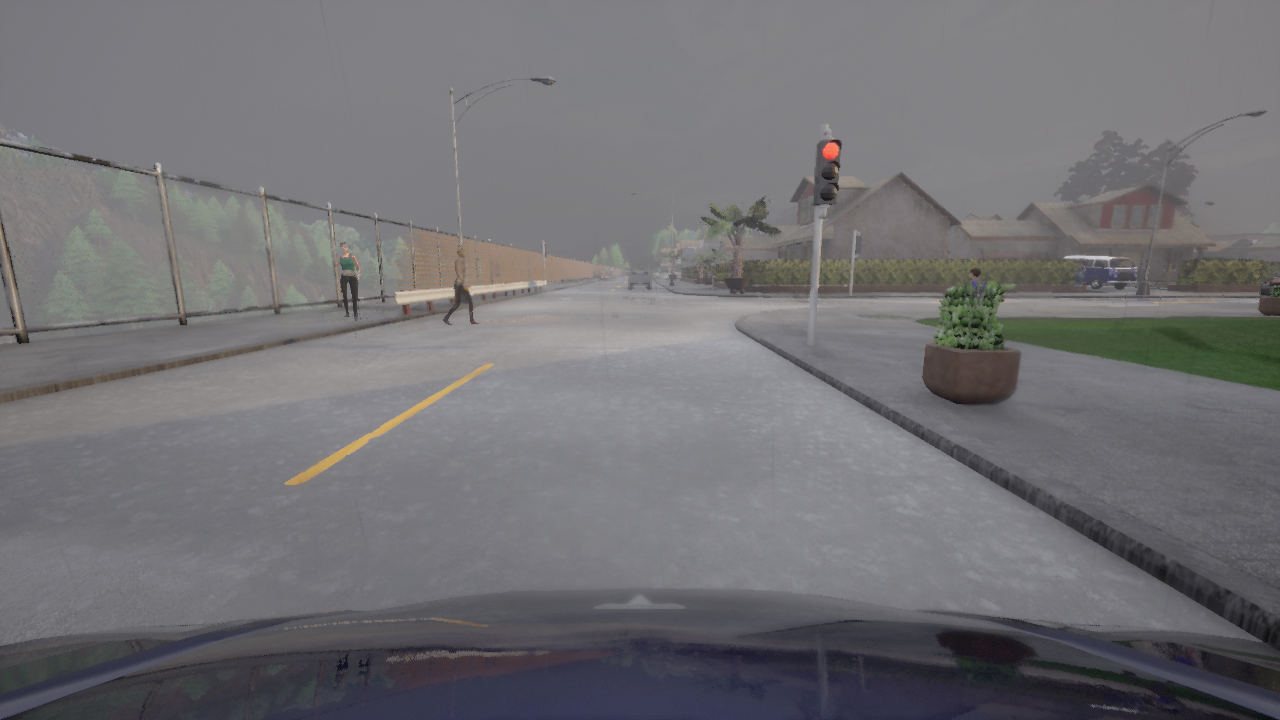cyclist: (0, 588, 1279, 719), (1062, 255, 1137, 288), (628, 269, 651, 288), (1260, 277, 1279, 296)
pedestrian: (442, 247, 480, 325), (335, 241, 360, 318), (966, 267, 985, 298), (1072, 260, 1086, 292)
